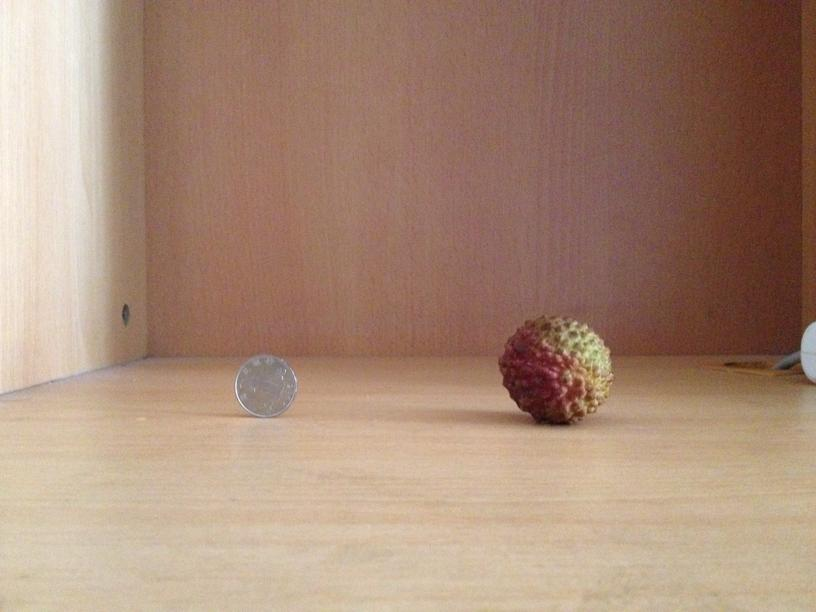coin: (232, 352, 298, 417)
litchi: (498, 312, 614, 427)
